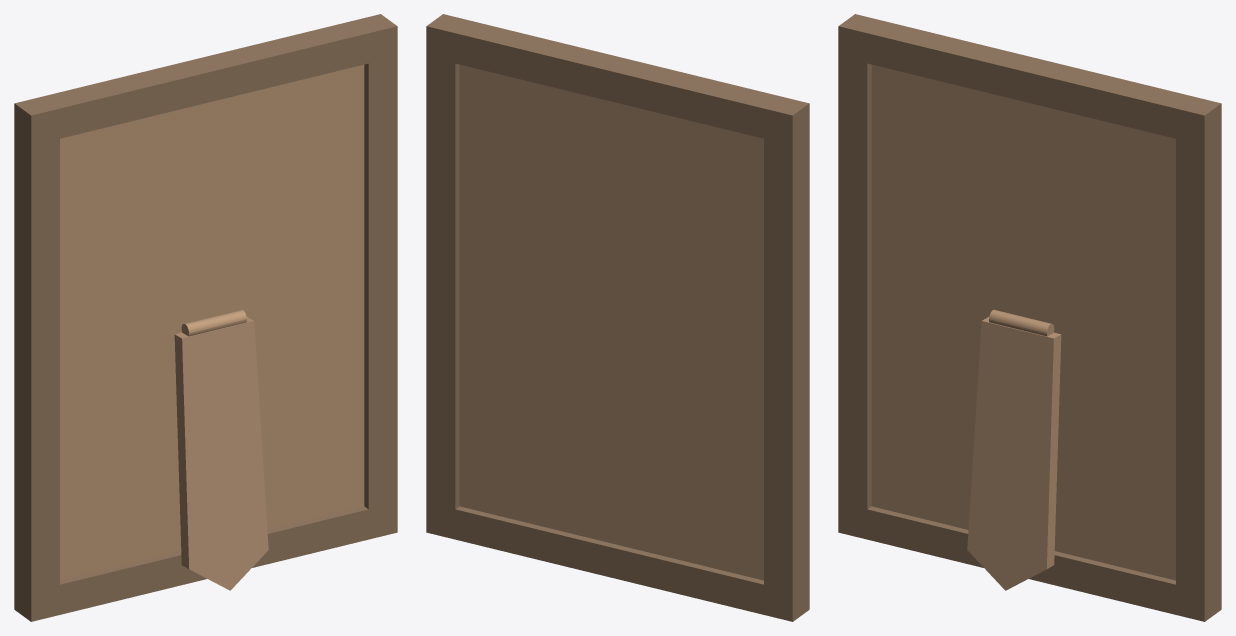
Rendered from Picture Frames.glb.
3 renders of one model, left to right at view 1: azimuth 30°, elevation 25°; view 2: azimuth 150°, elevation 25°; view 3: azimuth 330°, elevation 25°, orthographic.
Parts seen in each view (by area): view 1: Picture, Rectangle, Foot (×3); view 2: Picture, Rectangle; view 3: Picture, Rectangle, Foot (×3).
Boxes of the visible parts, bbox=[...] form: Picture: bbox=[60, 64, 364, 580]; Rectangle: bbox=[14, 14, 397, 621]; Foot (×3): bbox=[174, 309, 268, 590]; Picture: bbox=[459, 64, 763, 580]; Rectangle: bbox=[426, 14, 809, 621]; Picture: bbox=[871, 64, 1175, 580]; Rectangle: bbox=[838, 14, 1221, 621]; Foot (×3): bbox=[967, 309, 1061, 590].
Size of the model in its own units: 0.3167 by 0.4208 by 0.0491.
